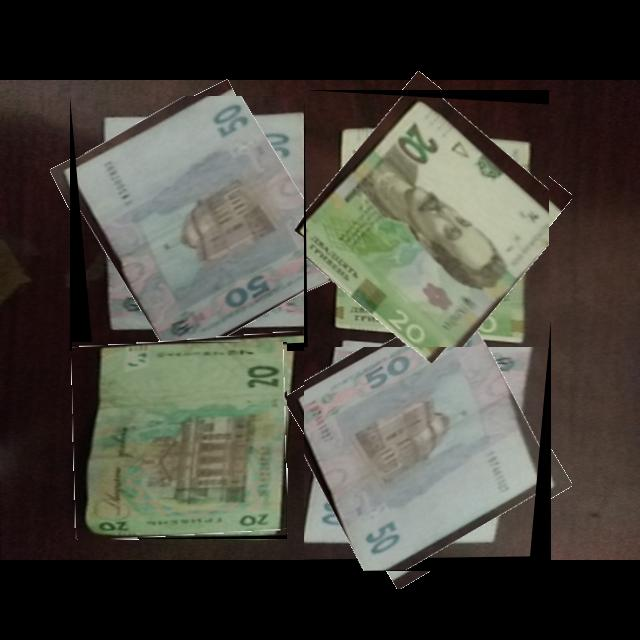20uah: (304, 90, 550, 348), (72, 342, 288, 540)
50uah: (304, 312, 552, 572), (70, 96, 310, 352)
